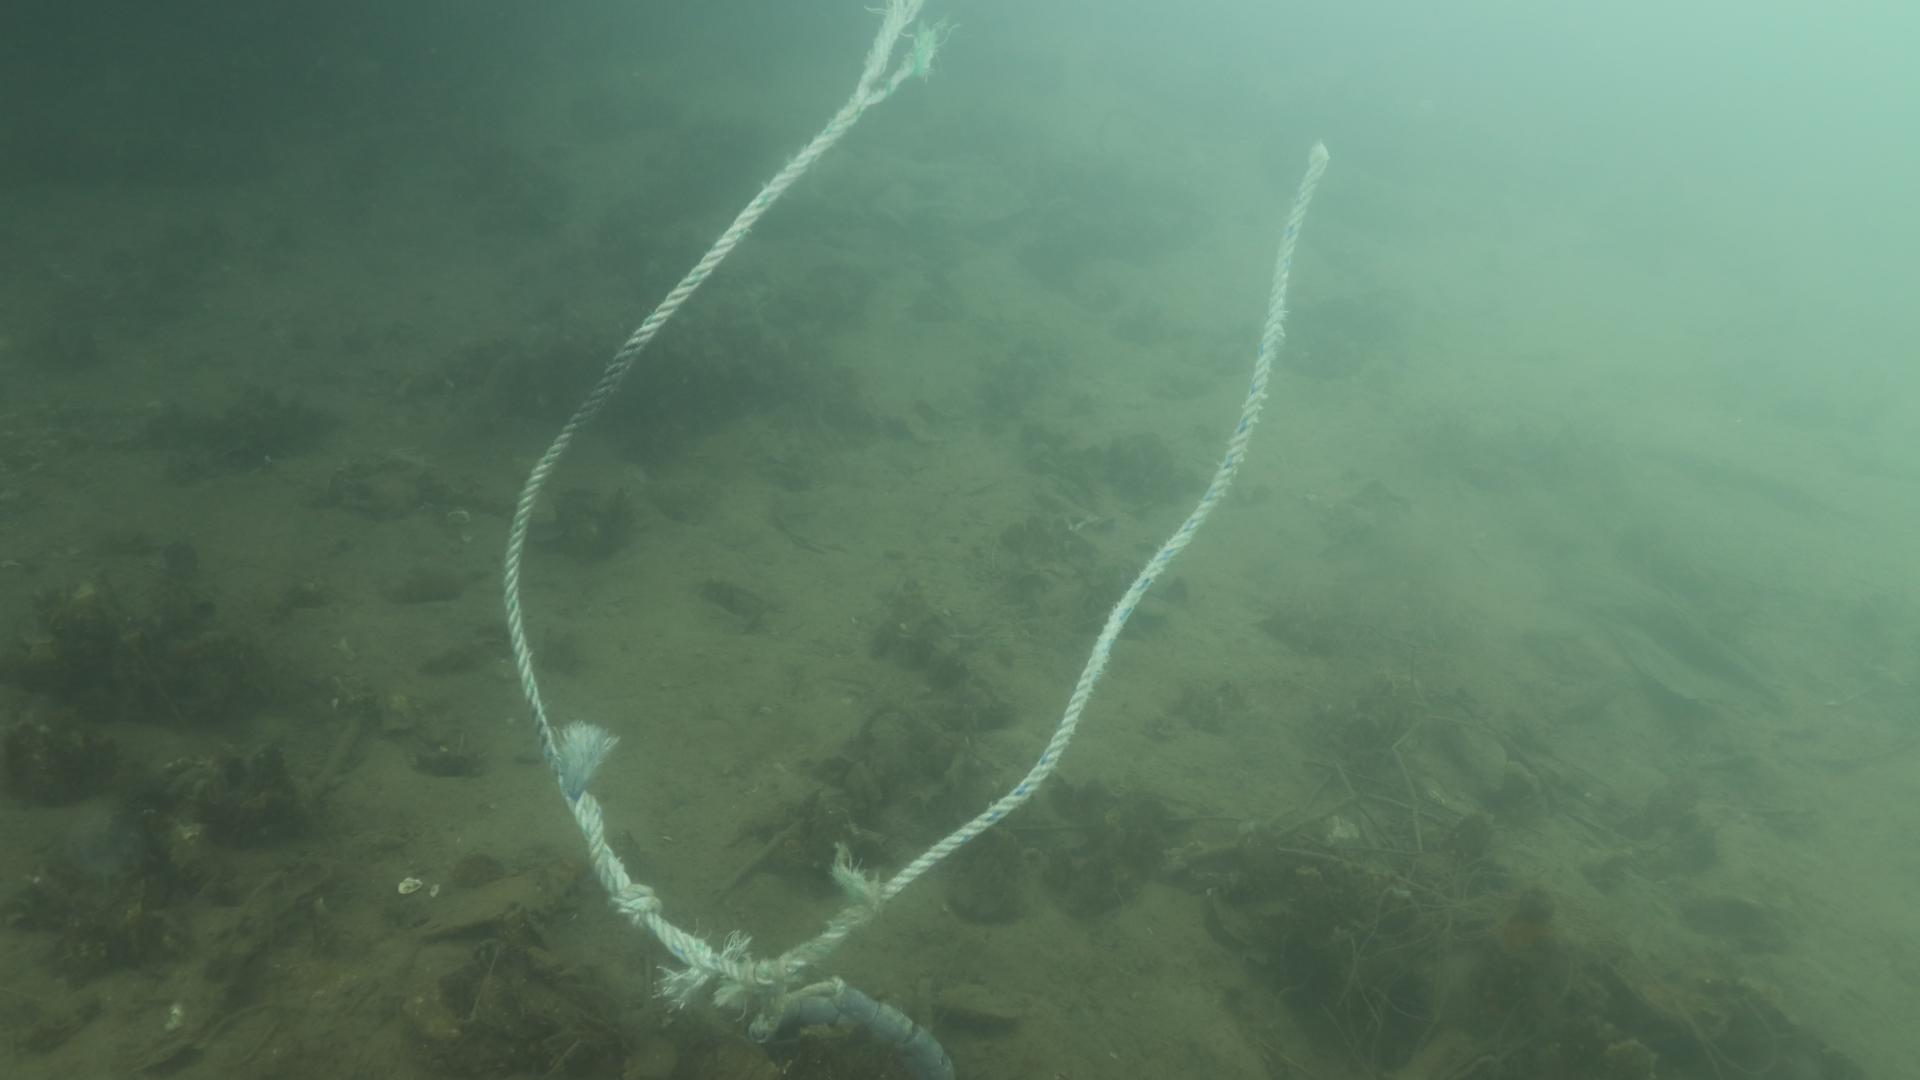bundle of ropes: (501, 3, 1336, 988)
